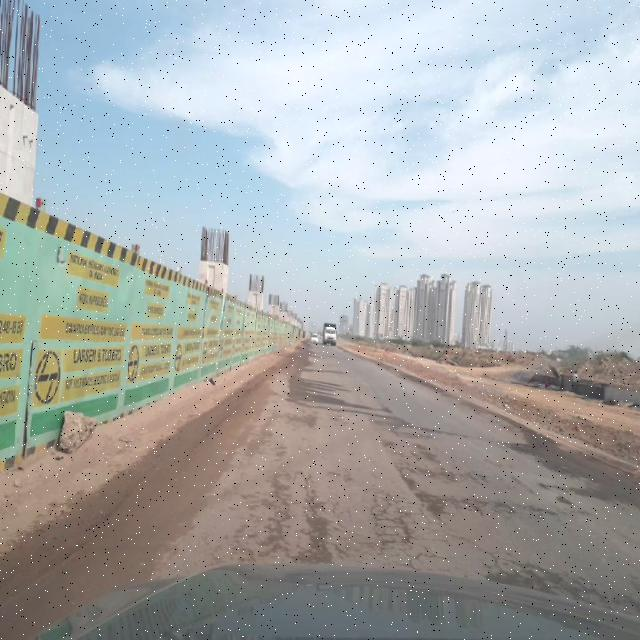D20: (191, 466, 414, 566), (473, 535, 639, 597), (419, 464, 545, 515)
